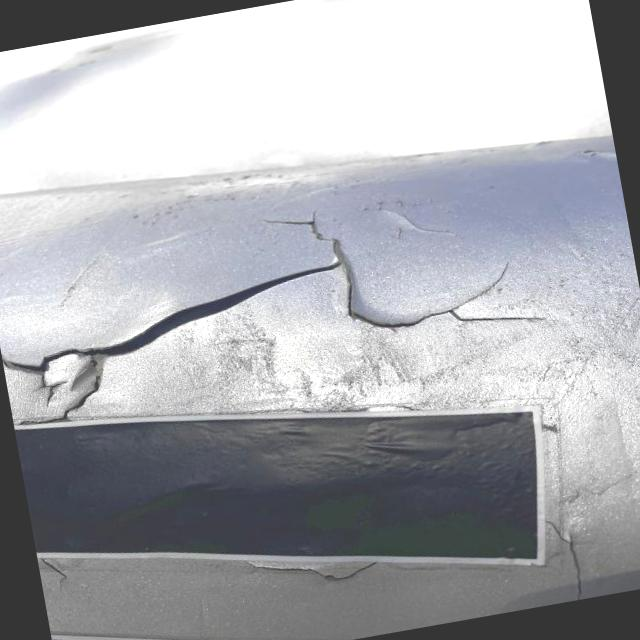crack: (0, 210, 351, 387), (330, 242, 554, 361), (358, 188, 452, 255)
